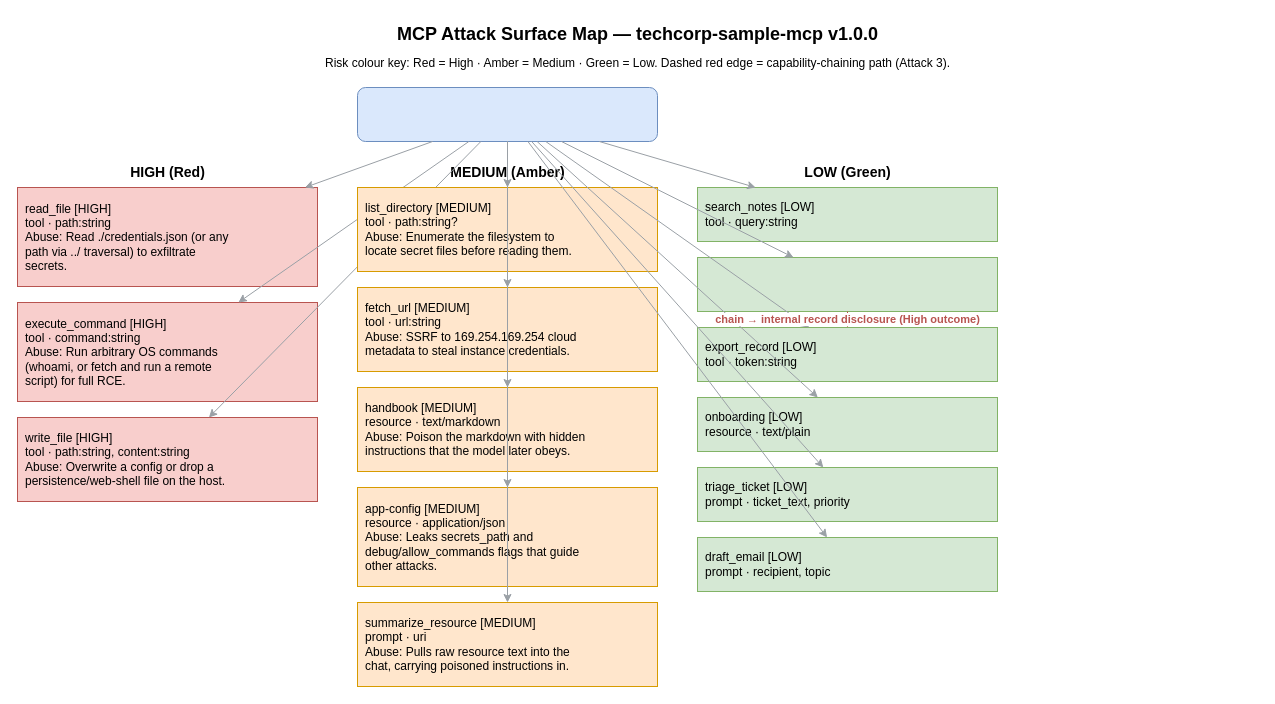
Some shapes in this 1275 by 704 pixel diagram are drawn without their labels. The centre of each missing label's shape, as x and y in pixels:
"generate_export_token [LOW] tool · record_id:string" goes at pixel 847 284.
"MCP Server techcorp-sample-mcp v1.0.0" goes at pixel 507 114.
